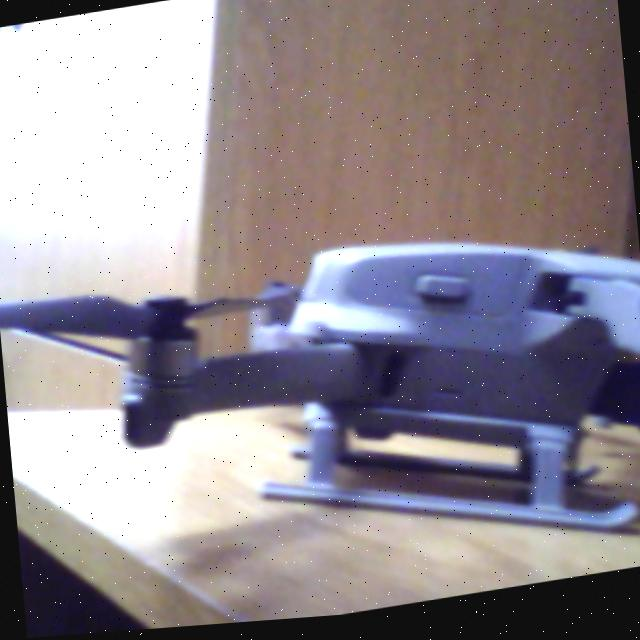drone: (0, 140, 640, 640)
